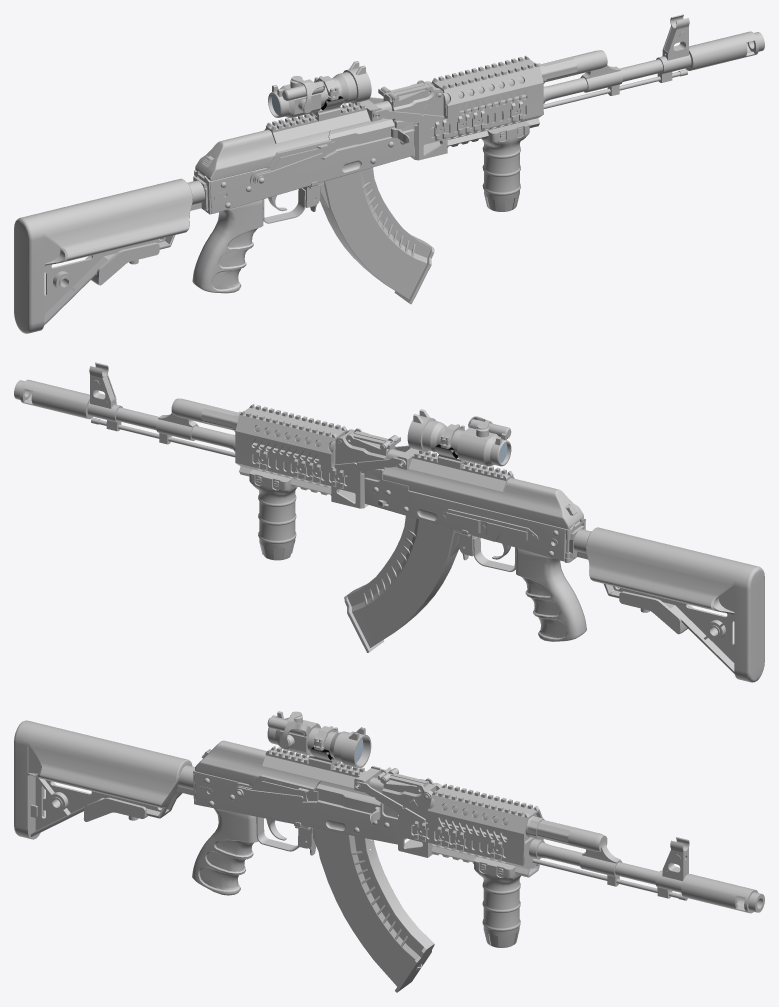
3 views of the same model, one above another, from view 1: azimuth 30°, elevation 25°; view 2: azimuth 150°, elevation 25°; view 3: azimuth 330°, elevation 25° (orthographic).
Visible parts, largest first — view 1: Stock_Main1, Magazine1, Cage, Main_Receiver2, Main_Grip, Receiver_Cover, Foregrip_Main, Barrel_Upper, Scope, Muzzle, Scope_Holder, Mode_Switch (+11 smaller); view 2: Stock_Main1, Magazine1, Cage, Receiver_Cover, Main_Receiver2, Main_Grip, Foregrip_Main, Scope, Barrel_Upper, Muzzle, Scope_Holder, Ironsight_Front (+10 smaller); view 3: Stock_Main1, Magazine1, Cage, Main_Receiver2, Main_Grip, Foregrip_Main, Receiver_Cover, Barrel_Upper, Scope, Muzzle, Scope_Holder, Stock_Separator (+11 smaller).
Boxes of the visible parts, bbox=[...] form: Stock_Main1: bbox=[14, 178, 192, 333]; Magazine1: bbox=[320, 167, 434, 304]; Cage: bbox=[410, 58, 543, 160]; Main_Receiver2: bbox=[199, 120, 414, 213]; Main_Grip: bbox=[192, 199, 263, 293]; Receiver_Cover: bbox=[195, 101, 392, 180]; Foregrip_Main: bbox=[481, 121, 529, 211]; Barrel_Upper: bbox=[541, 50, 622, 95]; Scope: bbox=[268, 67, 371, 118]; Muzzle: bbox=[685, 31, 764, 70]; Scope_Holder: bbox=[264, 100, 381, 143]; Mode_Switch: bbox=[250, 141, 337, 187]; Stock_Main1: bbox=[586, 527, 764, 682]; Magazine1: bbox=[344, 516, 459, 652]; Cage: bbox=[235, 407, 368, 508]; Receiver_Cover: bbox=[383, 449, 583, 529]; Main_Receiver2: bbox=[364, 469, 583, 561]; Main_Grip: bbox=[516, 548, 586, 641]; Foregrip_Main: bbox=[249, 469, 297, 560]; Scope: bbox=[407, 415, 511, 466]; Barrel_Upper: bbox=[156, 398, 237, 444]; Muzzle: bbox=[14, 379, 92, 419]; Scope_Holder: bbox=[397, 448, 514, 491]; Ironsight_Front: bbox=[87, 362, 122, 431]; Stock_Main1: bbox=[14, 720, 192, 839]; Magazine1: bbox=[312, 828, 434, 992]; Cage: bbox=[398, 787, 543, 877]; Main_Receiver2: bbox=[194, 771, 406, 844]; Main_Grip: bbox=[192, 808, 258, 895]; Foregrip_Main: bbox=[474, 857, 520, 947]; Receiver_Cover: bbox=[195, 740, 383, 792]; Barrel_Upper: bbox=[537, 820, 622, 886]; Scope: bbox=[267, 717, 371, 768]; Muzzle: bbox=[681, 874, 764, 913]; Scope_Holder: bbox=[262, 749, 381, 792]; Stock_Separator: bbox=[35, 777, 161, 830].
Size of the model in its own units: 0.8834 by 0.2828 by 0.0702.
